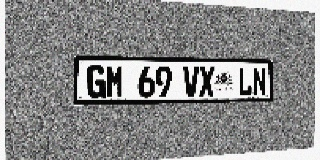6: (138, 66, 155, 98)
9: (155, 66, 172, 97)
G: (87, 65, 105, 98)
L: (238, 67, 252, 96)
M: (106, 65, 124, 98)
N: (252, 67, 266, 96)
V: (183, 66, 199, 97)
X: (199, 66, 214, 97)
